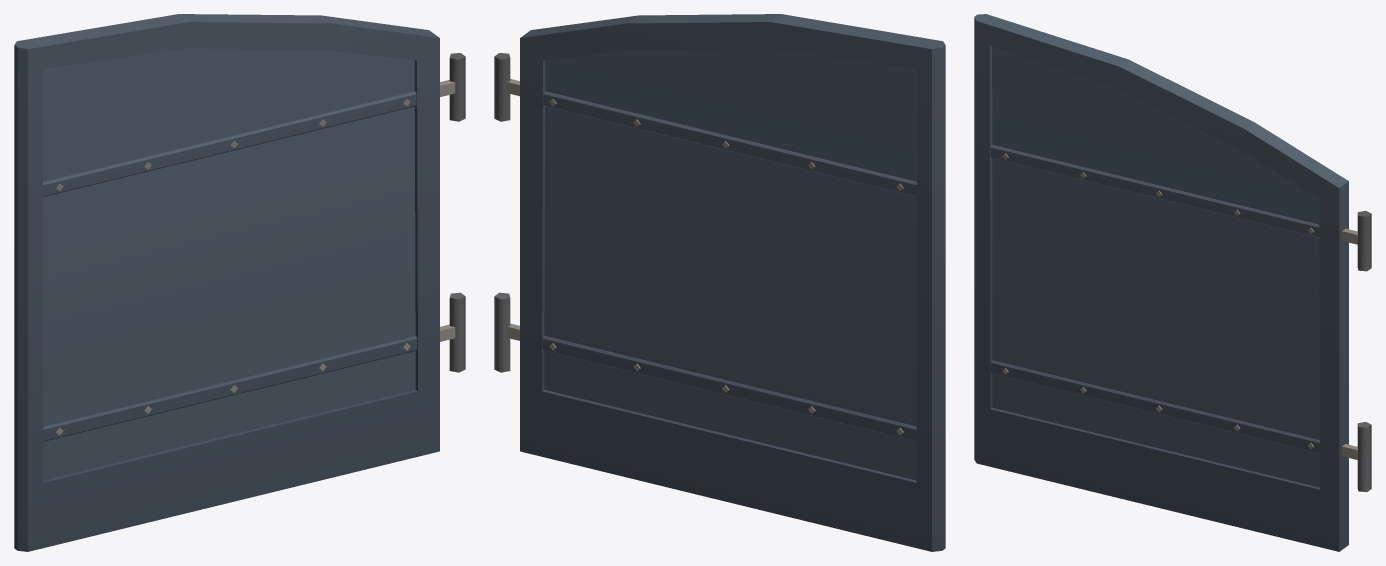
Rendered from WallFence_3_Gate_B.fbx.
3 views of the same model, side by side, from view 1: azimuth 30°, elevation 25°; view 2: azimuth 150°, elevation 25°; view 3: azimuth 330°, elevation 25° (orthographic). The views are drawn at different scales.
Parts seen in each view (by area): view 1: WallFence_3_Gate_B; view 2: WallFence_3_Gate_B; view 3: WallFence_3_Gate_B.
Boxes of the visible parts, <box> form: WallFence_3_Gate_B: <box>14,14,465,551</box>; WallFence_3_Gate_B: <box>494,14,945,551</box>; WallFence_3_Gate_B: <box>974,14,1371,551</box>.
Bounding box in the file's own units: 189 × 203 × 8.
